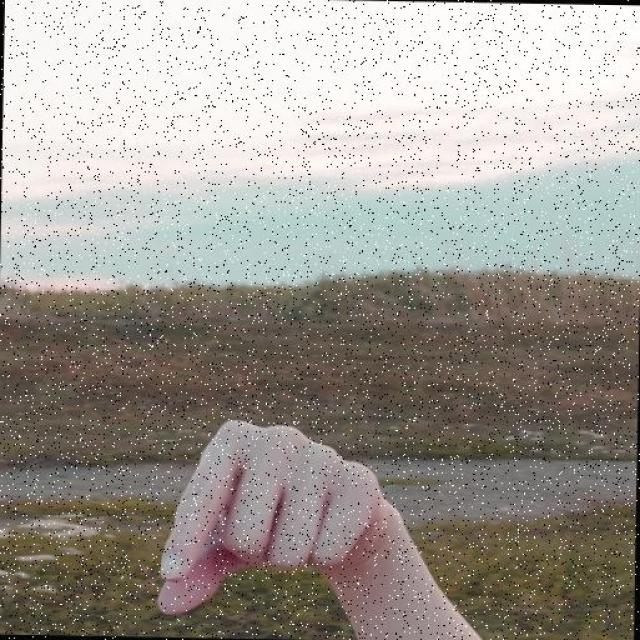Q: (154, 414, 394, 624)
